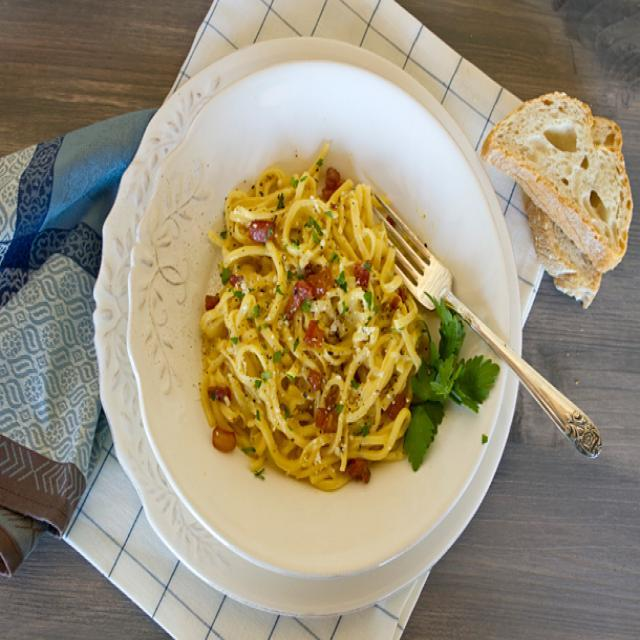Pasta with carbonara sauce: (153, 143, 481, 502)
